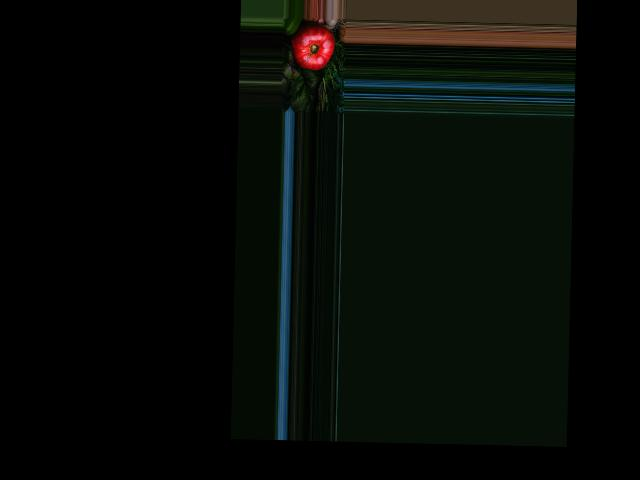tomato: (289, 21, 335, 70)
